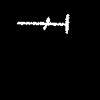double_crochet: (17, 14, 68, 32)
